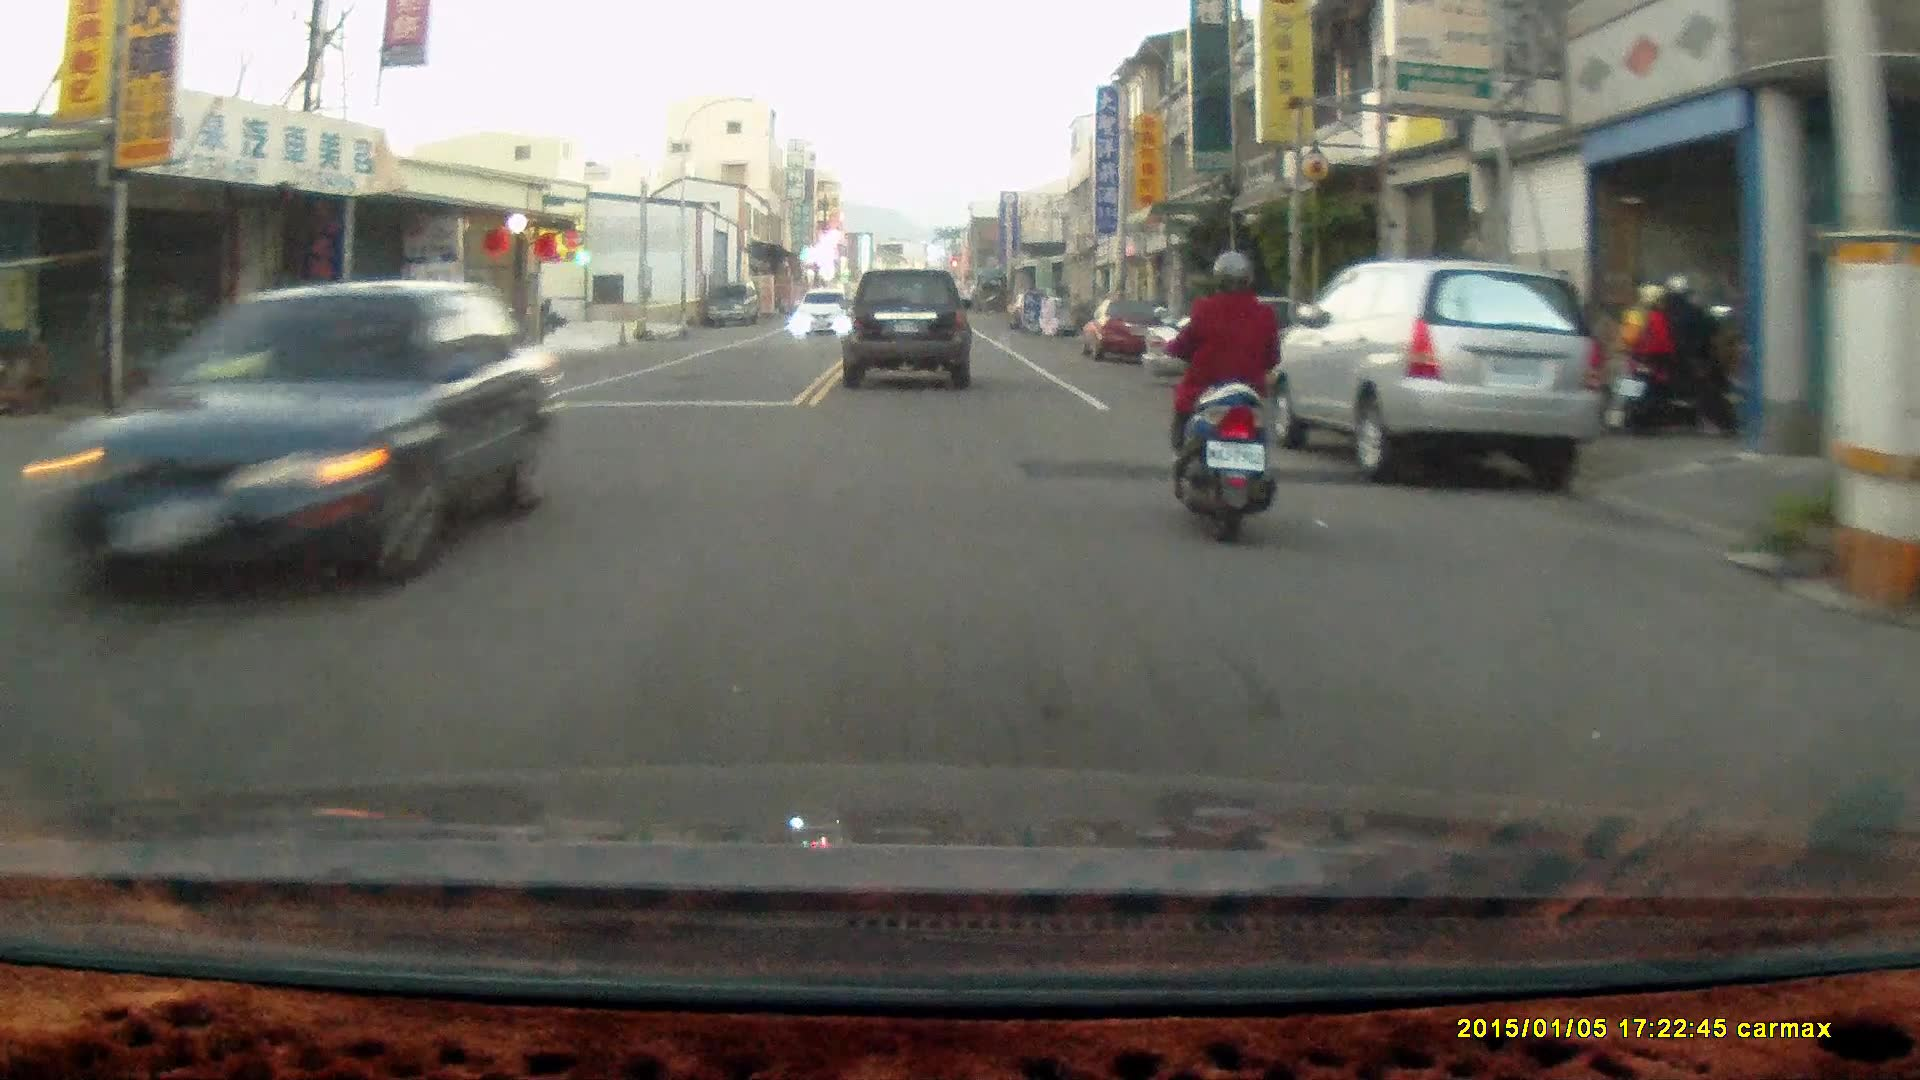rider: (1153, 248, 1279, 546), (1615, 271, 1738, 440)
vehicle: (46, 278, 548, 602), (1272, 257, 1604, 480), (842, 264, 974, 389), (1081, 298, 1168, 366), (791, 288, 848, 335)
